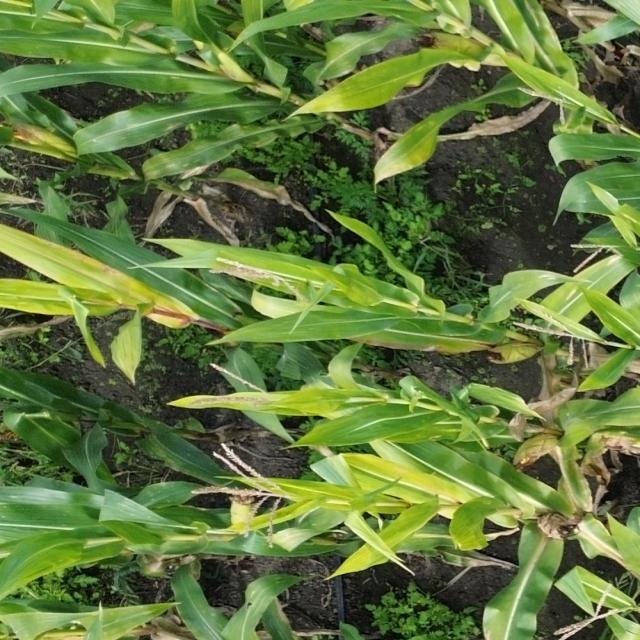gray-leaf-spot: (155, 144, 230, 177), (106, 116, 184, 145), (142, 436, 198, 474), (1, 488, 52, 520), (335, 40, 383, 74), (107, 495, 153, 526), (527, 267, 563, 286)
northern-leaf-blight: (574, 523, 630, 567), (550, 448, 591, 505)
southern-leaf-blight: (107, 604, 155, 634), (143, 480, 187, 510)
